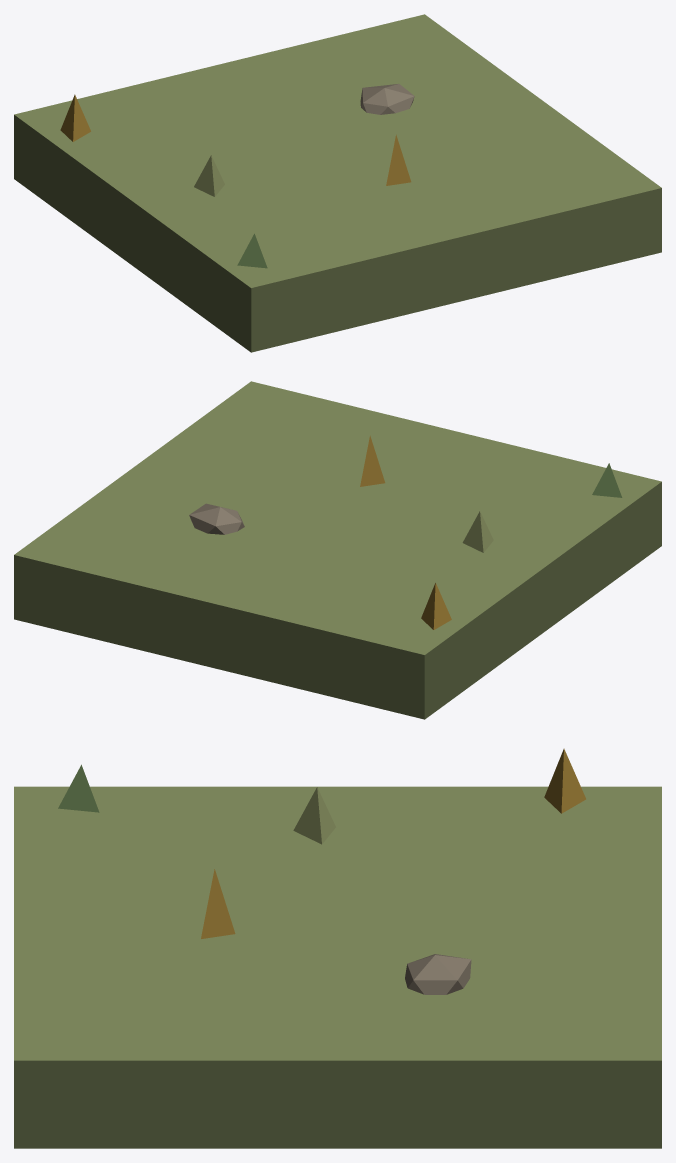
File: t_far_bank.glb
The picture shows the model from 3 angles, top to bottom: view 1: azimuth 30°, elevation 25°; view 2: azimuth 150°, elevation 25°; view 3: azimuth 270°, elevation 25°; orthographic projection. The views are drawn at different scales.
Parts seen in each view (by area): view 1: t_far_bank; view 2: t_far_bank; view 3: t_far_bank.
Part boxes in pixels (x1,y1,x2,y2): t_far_bank: (14, 14, 661, 352); t_far_bank: (14, 381, 661, 719); t_far_bank: (14, 748, 661, 1148).
Bounding box in the file's own units: 2 × 0.5182 × 2.
